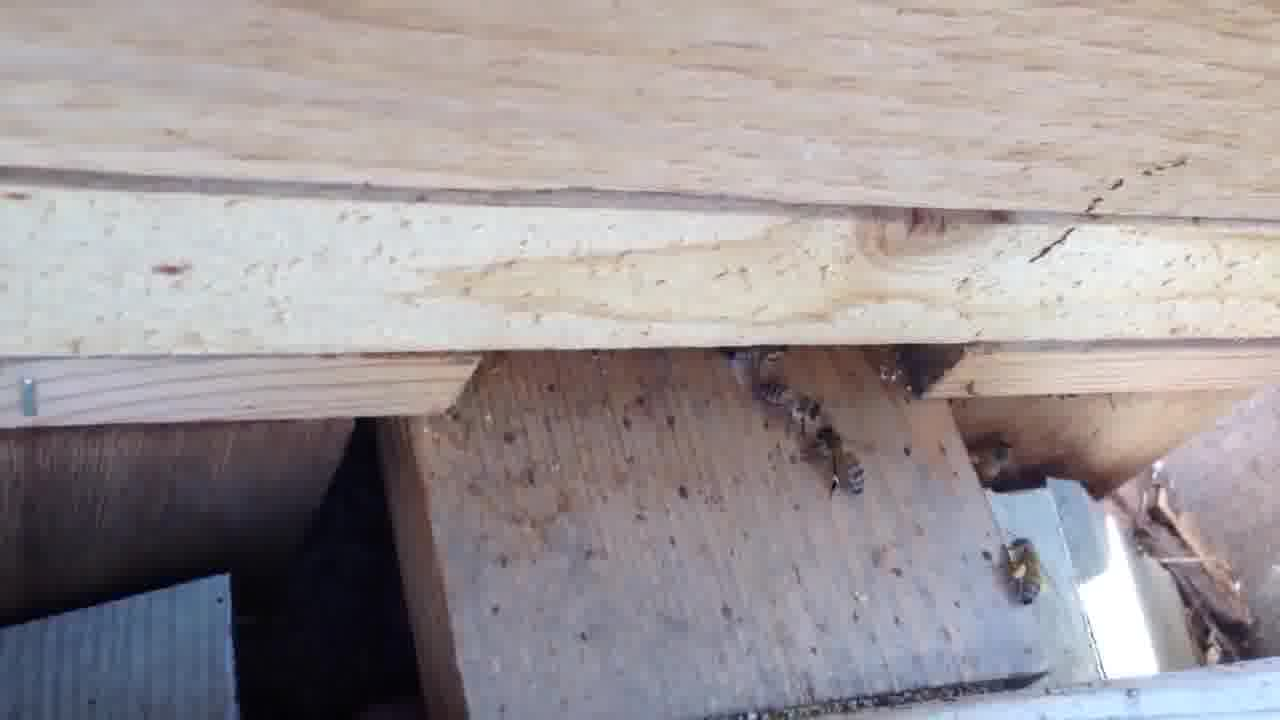pollen: (998, 532, 1061, 607)
